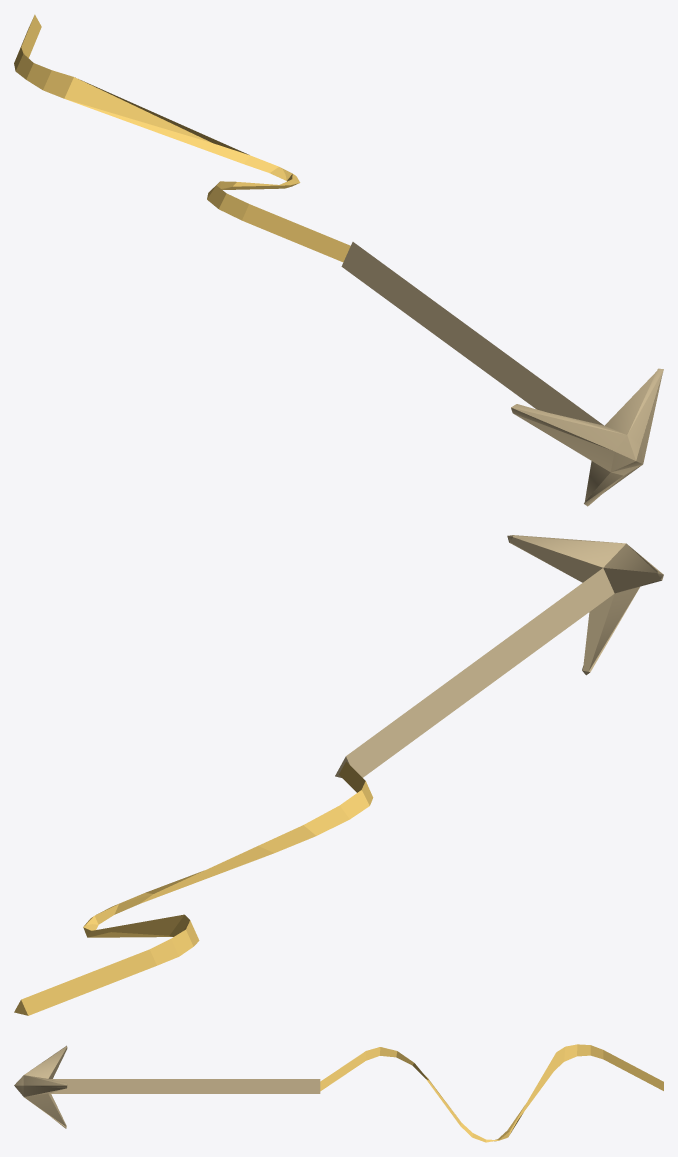
The model's file is arrow.gltf.
3 renders of one model, top to bottom at view 1: azimuth 30°, elevation 25°; view 2: azimuth 150°, elevation 25°; view 3: azimuth 270°, elevation 25°, orthographic. The views are drawn at different scales.
Visible parts, largest first — view 1: kusza, kusza.001; view 2: kusza, kusza.001; view 3: kusza, kusza.001.
Boxes of the visible parts, <box> form: kusza: <box>341,242,663,506</box>; kusza.001: <box>14,14,350,262</box>; kusza: <box>335,535,663,777</box>; kusza.001: <box>14,761,373,1015</box>; kusza: <box>14,1045,320,1128</box>; kusza.001: <box>320,1044,663,1142</box>.
Bounding box in the file's own units: 0.3357 × 0.2081 × 1.88.
1 material, 1 textured.
